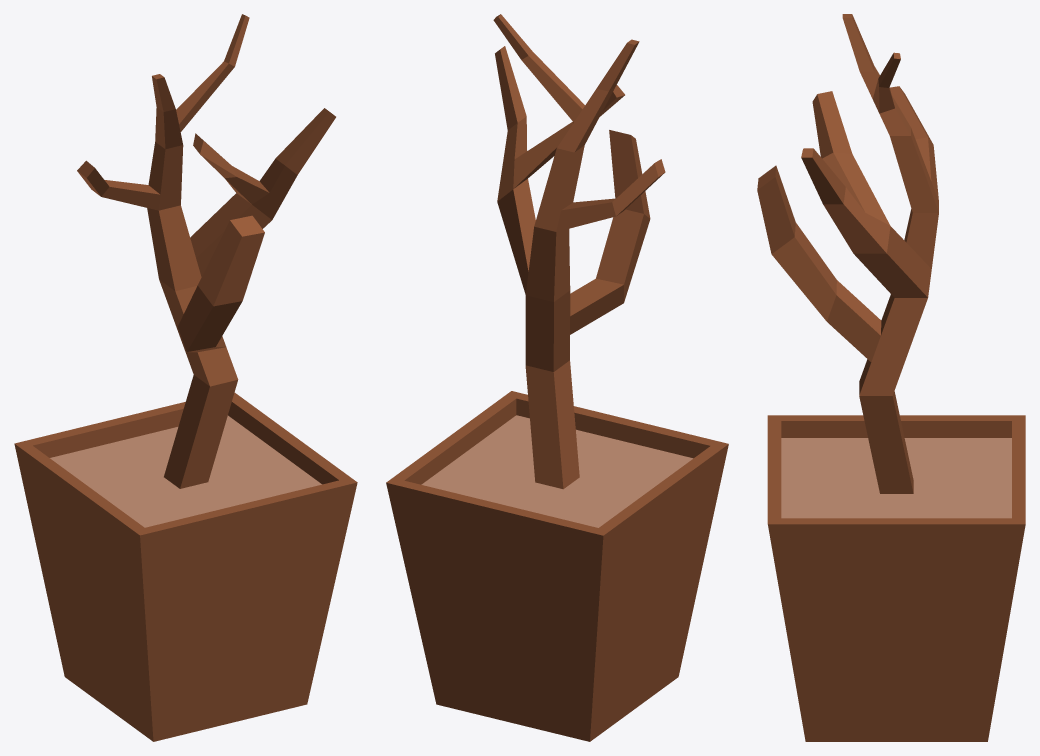
Rendered from Plant 1.fbx.
3 renders of one model, left to right at view 1: azimuth 30°, elevation 25°; view 2: azimuth 150°, elevation 25°; view 3: azimuth 270°, elevation 25°, orthographic. The views are drawn at different scales.
Visible parts, largest first — view 1: Plant 1; view 2: Plant 1; view 3: Plant 1.
Part boxes in pixels (x1=…): Plant 1: x1=14, y1=14, x2=357, y2=741; Plant 1: x1=386, y1=14, x2=728, y2=741; Plant 1: x1=757, y1=14, x2=1025, y2=741.
Size of the model in its own units: 40.24 by 117 by 41.88.
